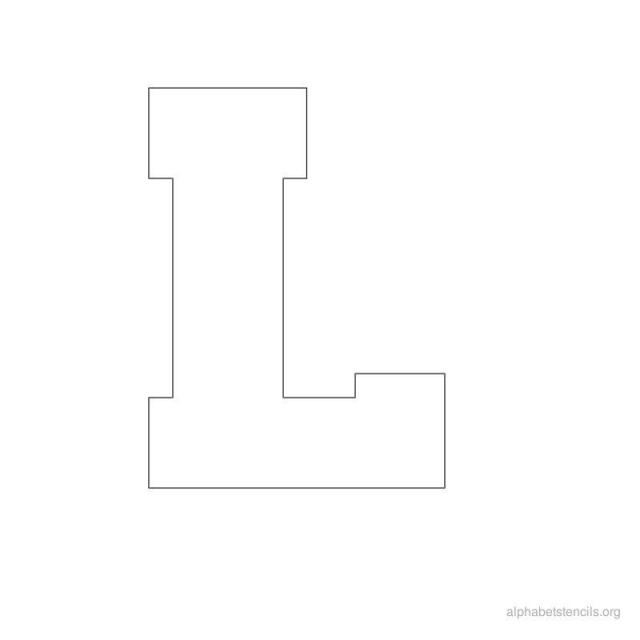L: (116, 53, 508, 575)
